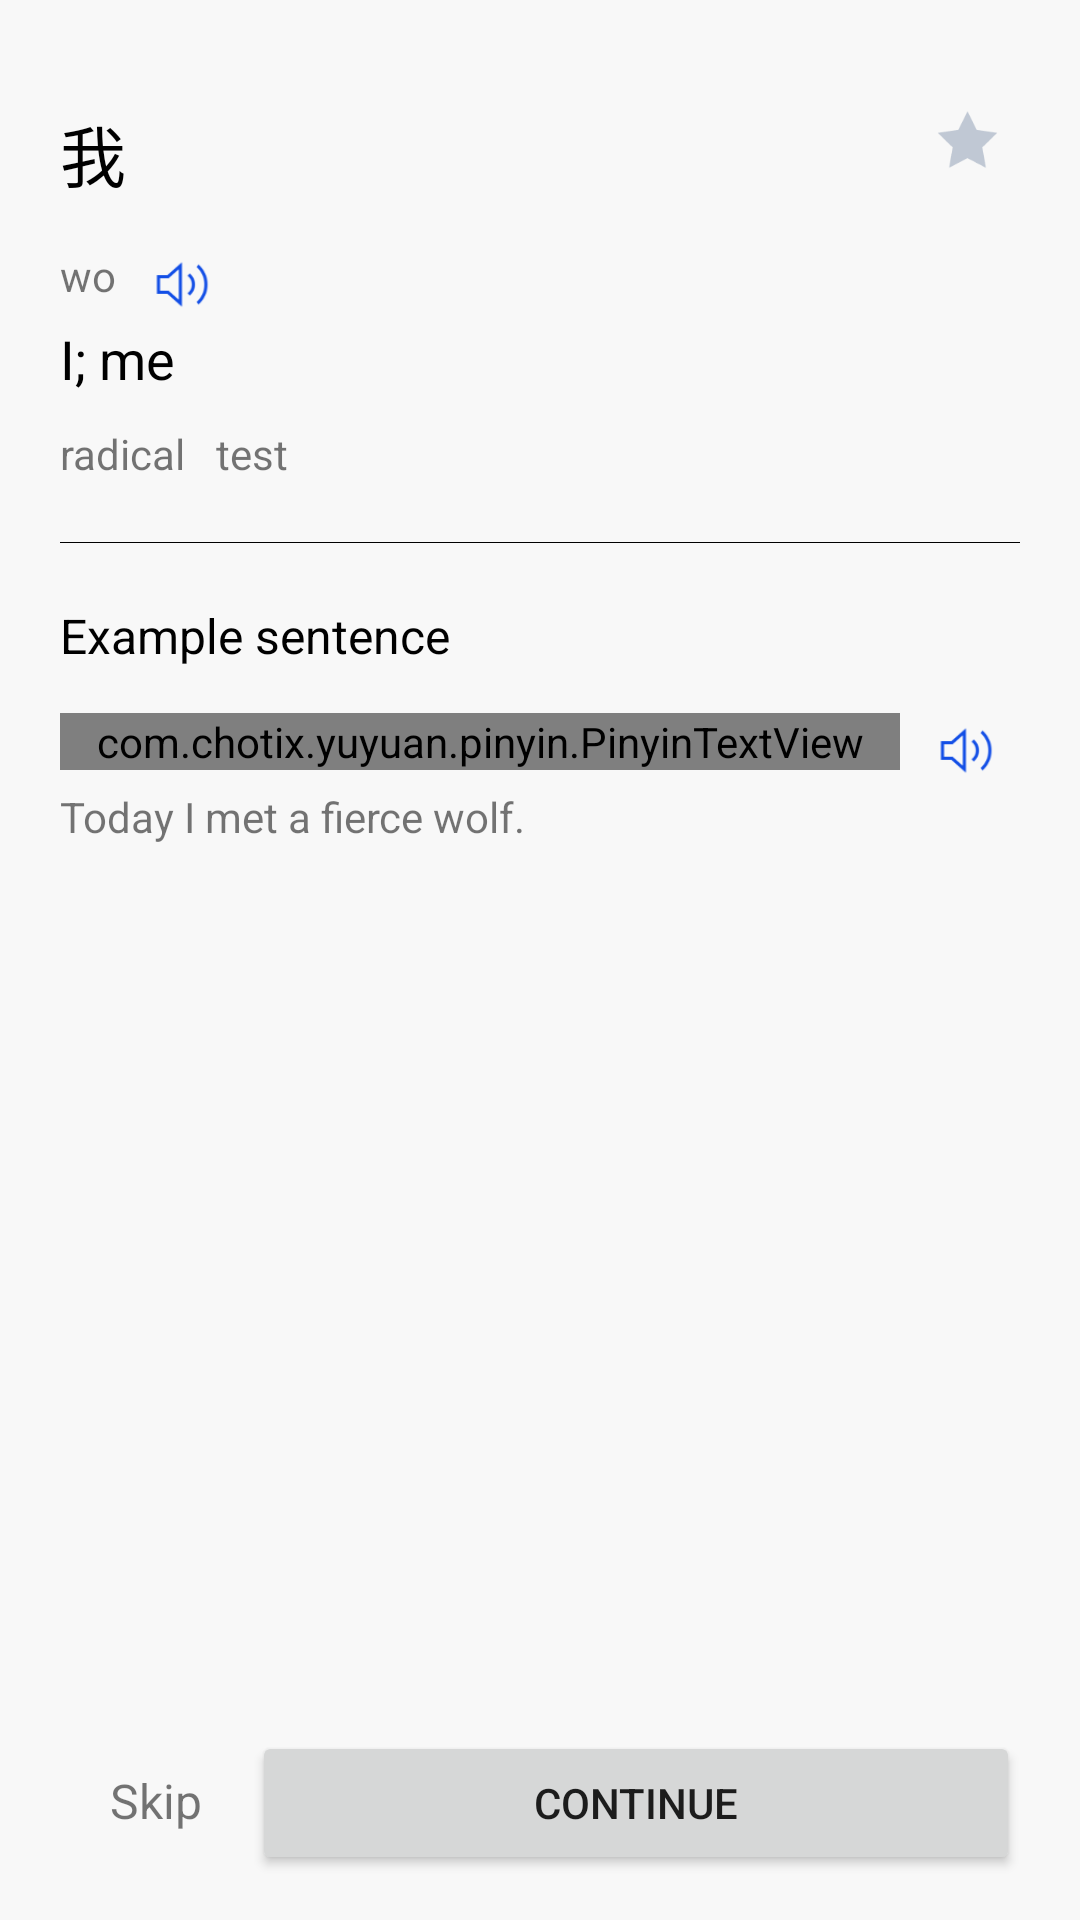

Icons on this 1080*1920 Android screen, each with its box as rect(x1, y1, x2, y2):
sound: rect(156, 262, 208, 307), rect(940, 728, 992, 773)
star: rect(938, 112, 997, 167)
